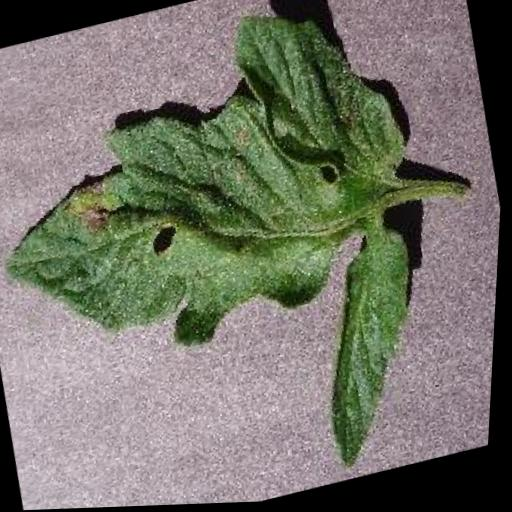Early Blight: (0, 0, 479, 512)
